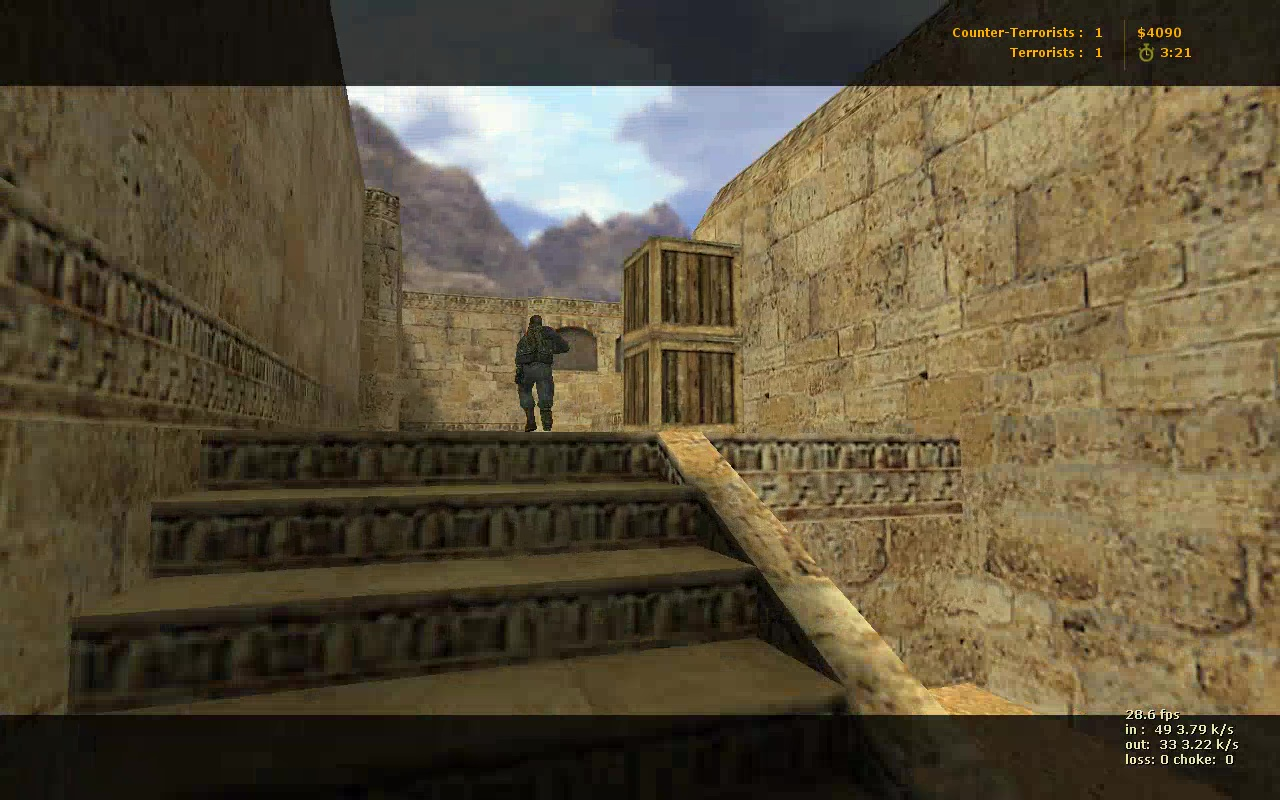ct: (515, 316, 570, 434)
